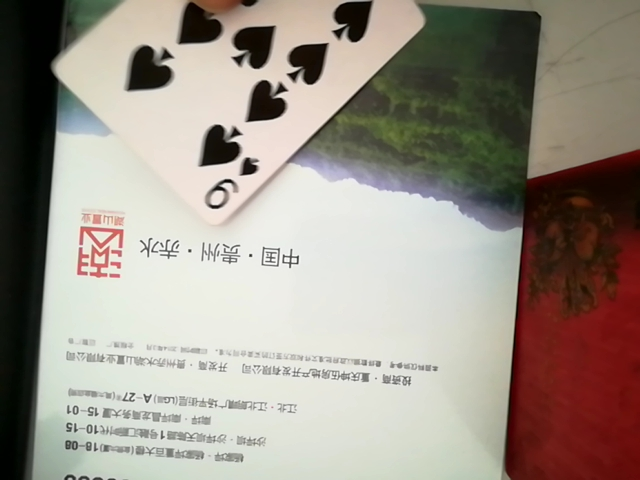ht 9: (60, 2, 443, 228)
